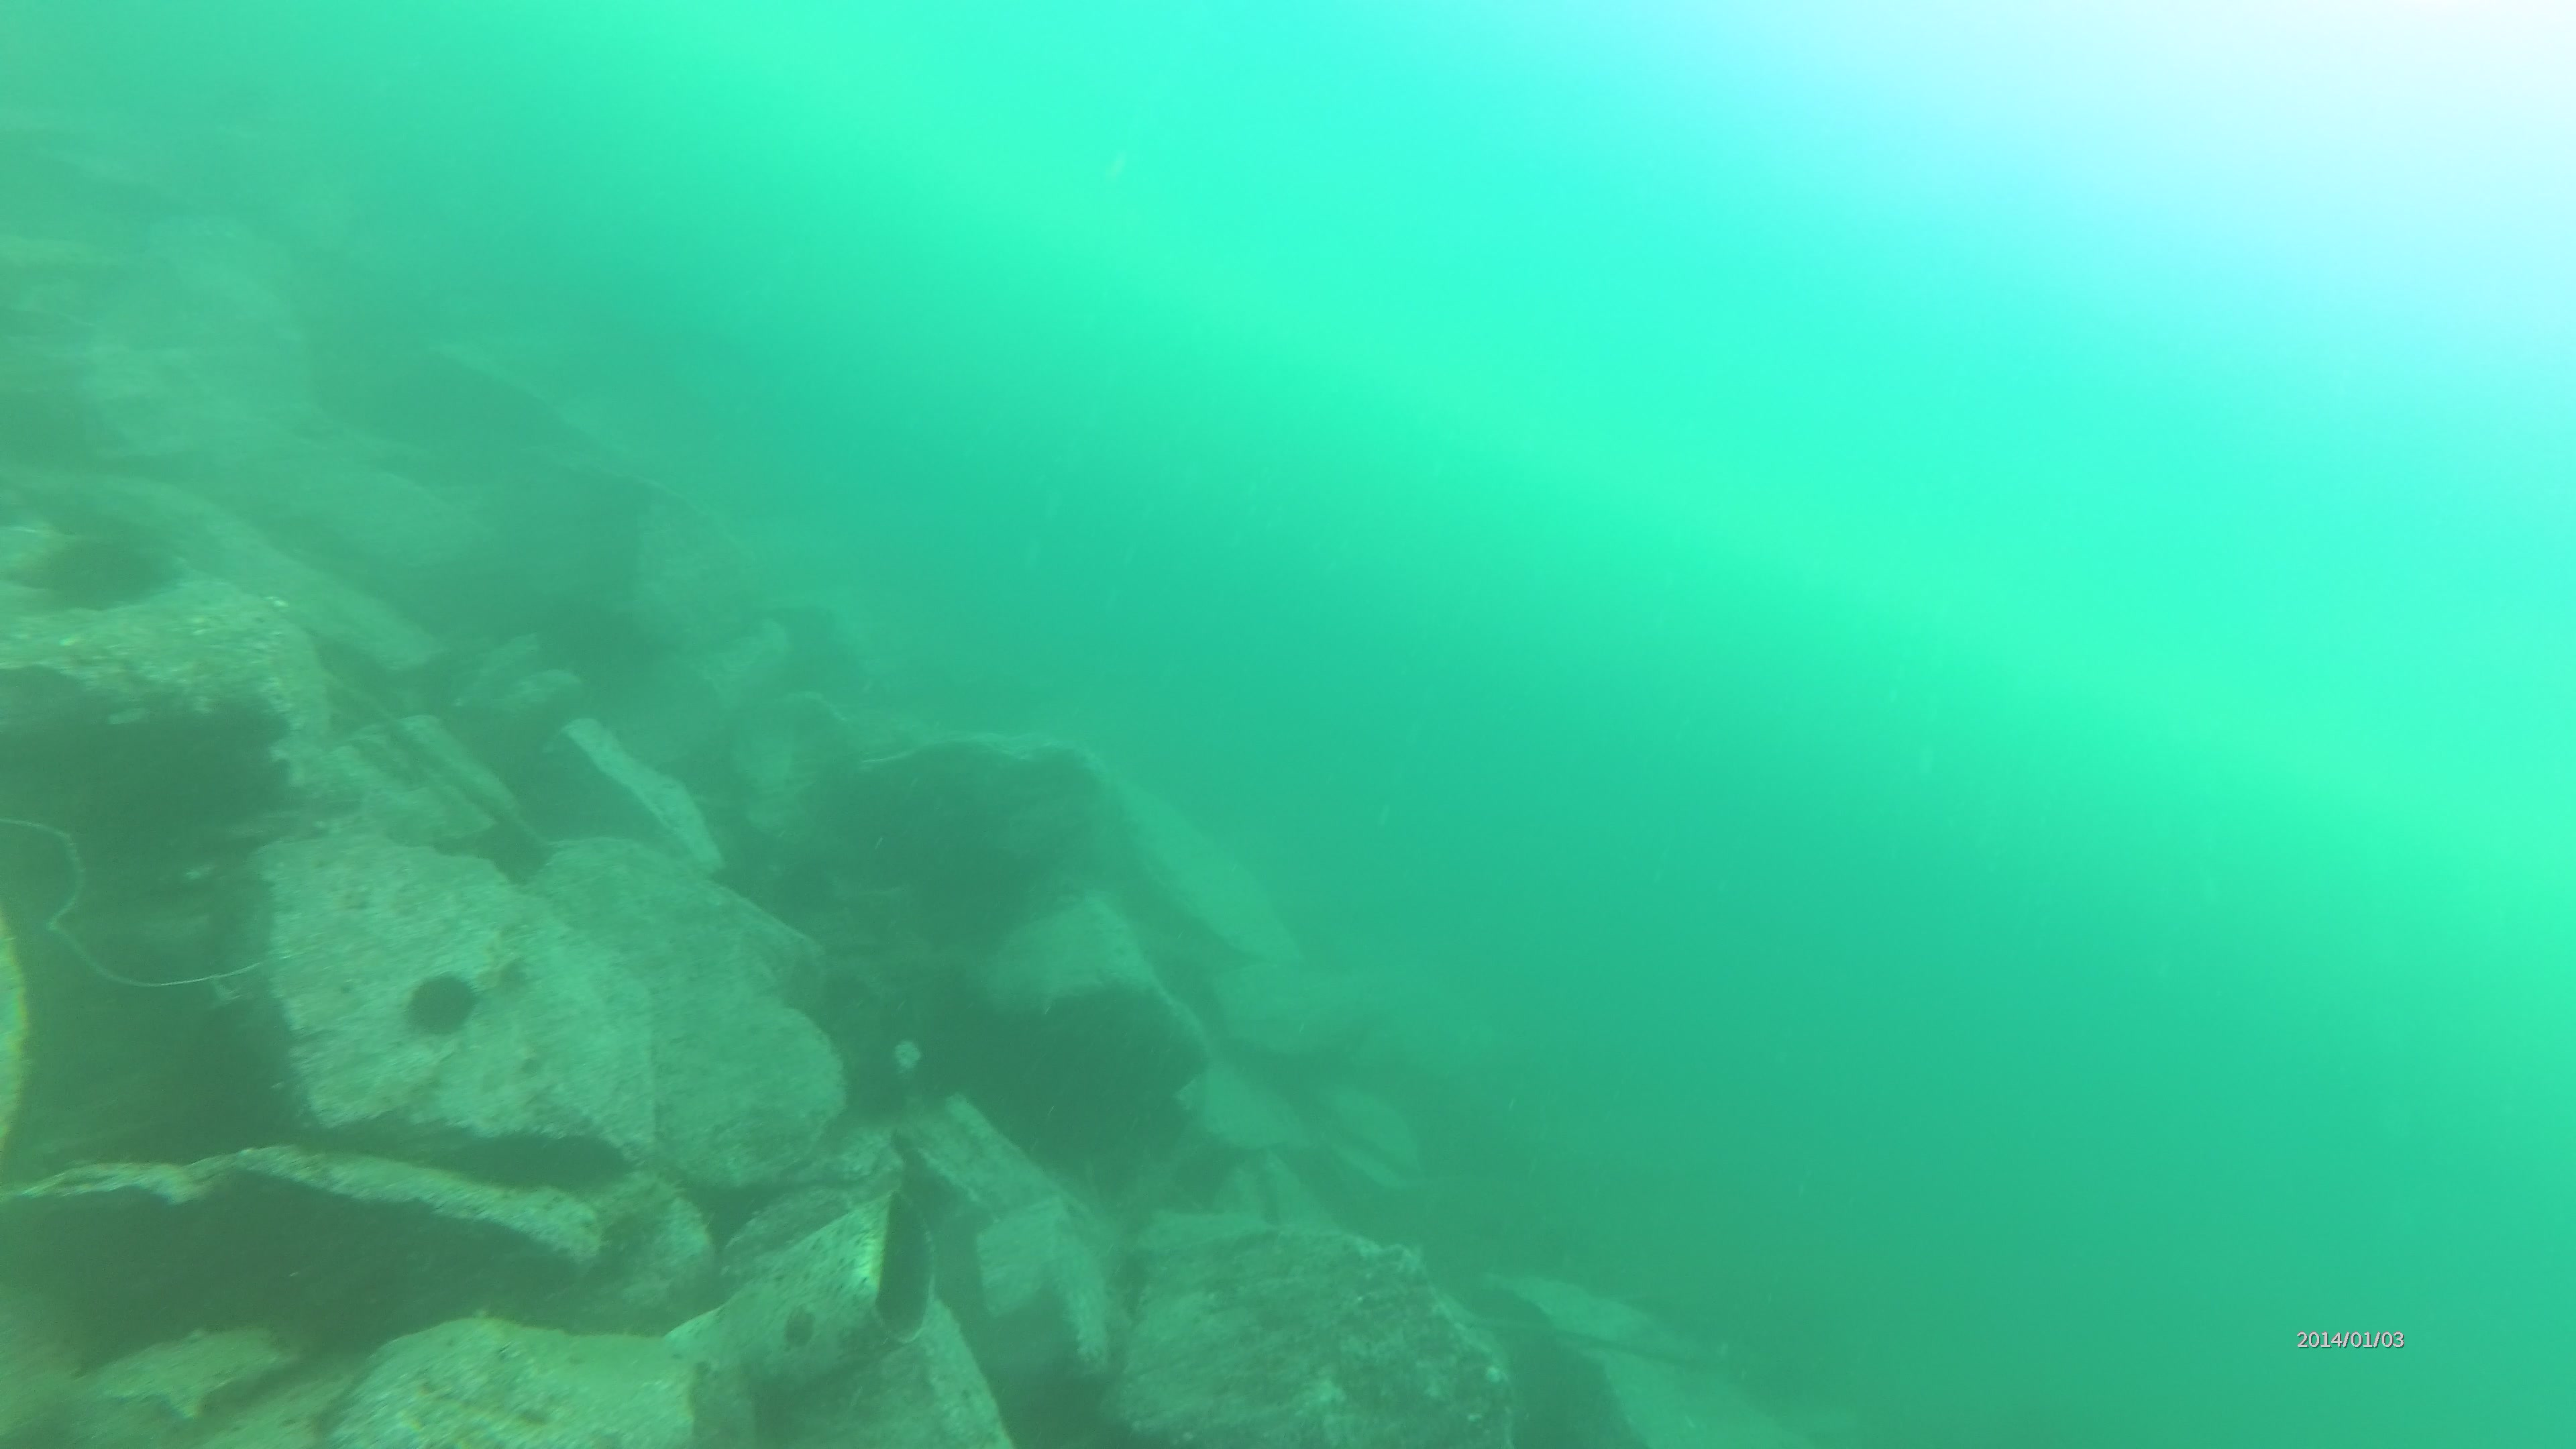echinus: (32, 529, 189, 616), (830, 1054, 924, 1139), (403, 968, 488, 1042), (755, 863, 830, 932)
